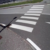zebra: (9, 4, 44, 32)
